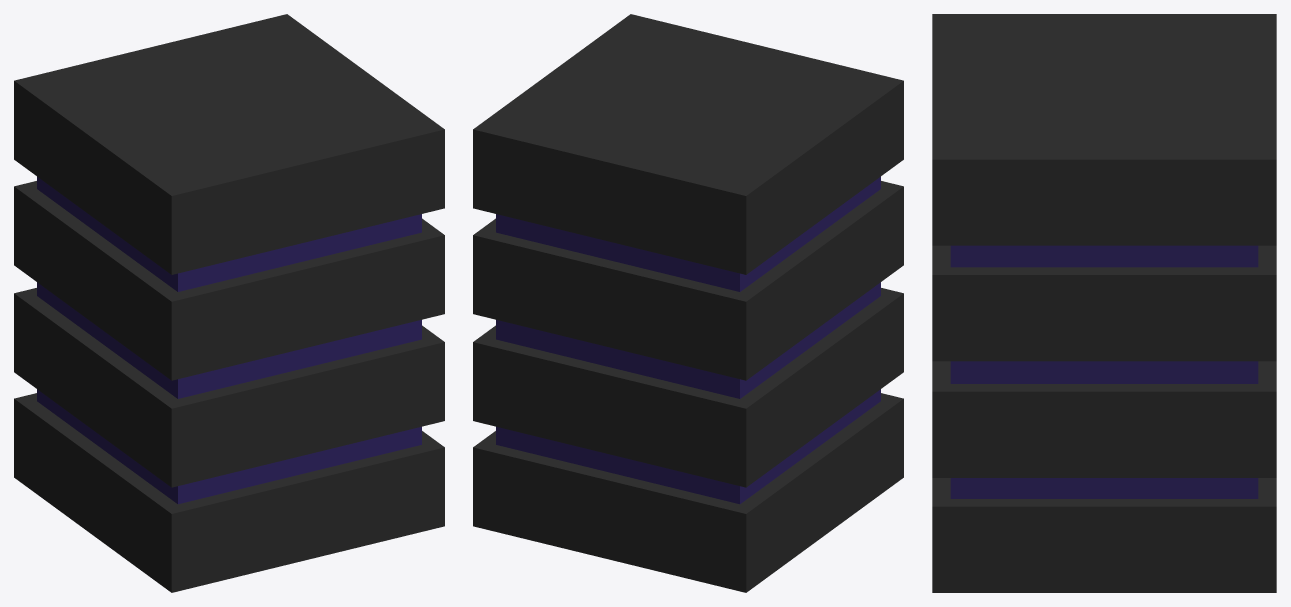
The model's file is Layered Building.fbx.
The picture shows the model from 3 angles, left to right: view 1: azimuth 30°, elevation 25°; view 2: azimuth 150°, elevation 25°; view 3: azimuth 270°, elevation 25°; orthographic projection. The views are drawn at different scales.
Visible parts, largest first — view 1: Cube_1, Cube_1_3, Cube_1_4, Cube_1_2, Cube_2_2, Cube_2, Cube_2_3; view 2: Cube_1, Cube_1_3, Cube_1_4, Cube_1_2, Cube_2_2, Cube_2, Cube_2_3; view 3: Cube_1, Cube_1_2, Cube_1_3, Cube_1_4, Cube_2_2, Cube_2, Cube_2_3.
Boxes of the visible parts, left/top/right/bottom form: Cube_1: left=14, top=14, right=444, bottom=274; Cube_1_3: left=14, top=288, right=444, bottom=487; Cube_1_4: left=14, top=393, right=444, bottom=592; Cube_1_2: left=14, top=181, right=444, bottom=380; Cube_2_2: left=37, top=282, right=421, bottom=398; Cube_2: left=37, top=176, right=421, bottom=291; Cube_2_3: left=37, top=389, right=421, bottom=504; Cube_1: left=473, top=14, right=903, bottom=274; Cube_1_3: left=473, top=288, right=903, bottom=487; Cube_1_4: left=473, top=393, right=903, bottom=592; Cube_1_2: left=473, top=181, right=903, bottom=380; Cube_2_2: left=496, top=282, right=880, bottom=398; Cube_2: left=496, top=176, right=880, bottom=291; Cube_2_3: left=496, top=389, right=880, bottom=504; Cube_1: left=932, top=14, right=1276, bottom=245; Cube_1_2: left=932, top=245, right=1276, bottom=361; Cube_1_3: left=932, top=361, right=1276, bottom=477; Cube_1_4: left=932, top=478, right=1276, bottom=592; Cube_2_2: left=950, top=361, right=1258, bottom=383; Cube_2: left=950, top=245, right=1258, bottom=267; Cube_2_3: left=950, top=478, right=1258, bottom=498.
Size of the model in its own units: 8828 by 12257 by 8828.
